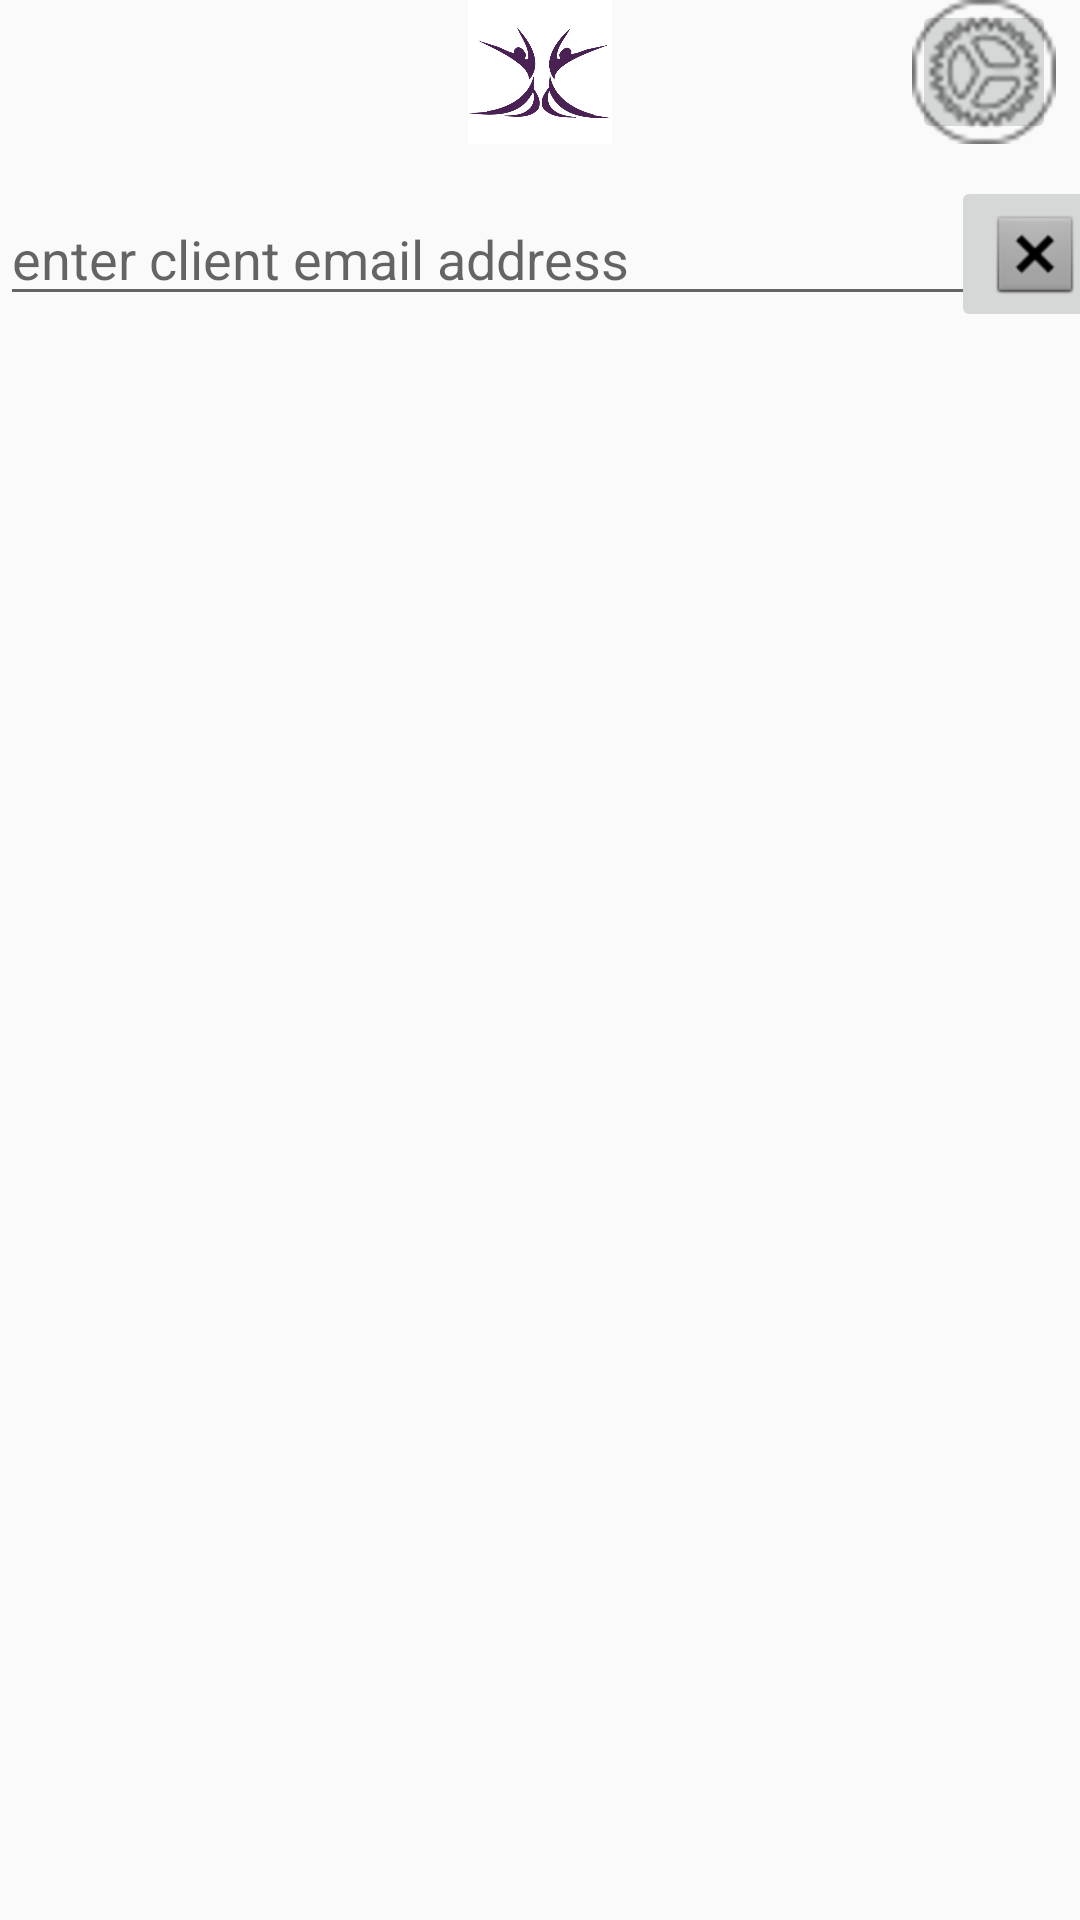

Named icons in this screenshot (1080 × 1920) and their bounding boxes, (x1, y1, x2, y2):
settings: (912, 0, 1056, 144)
